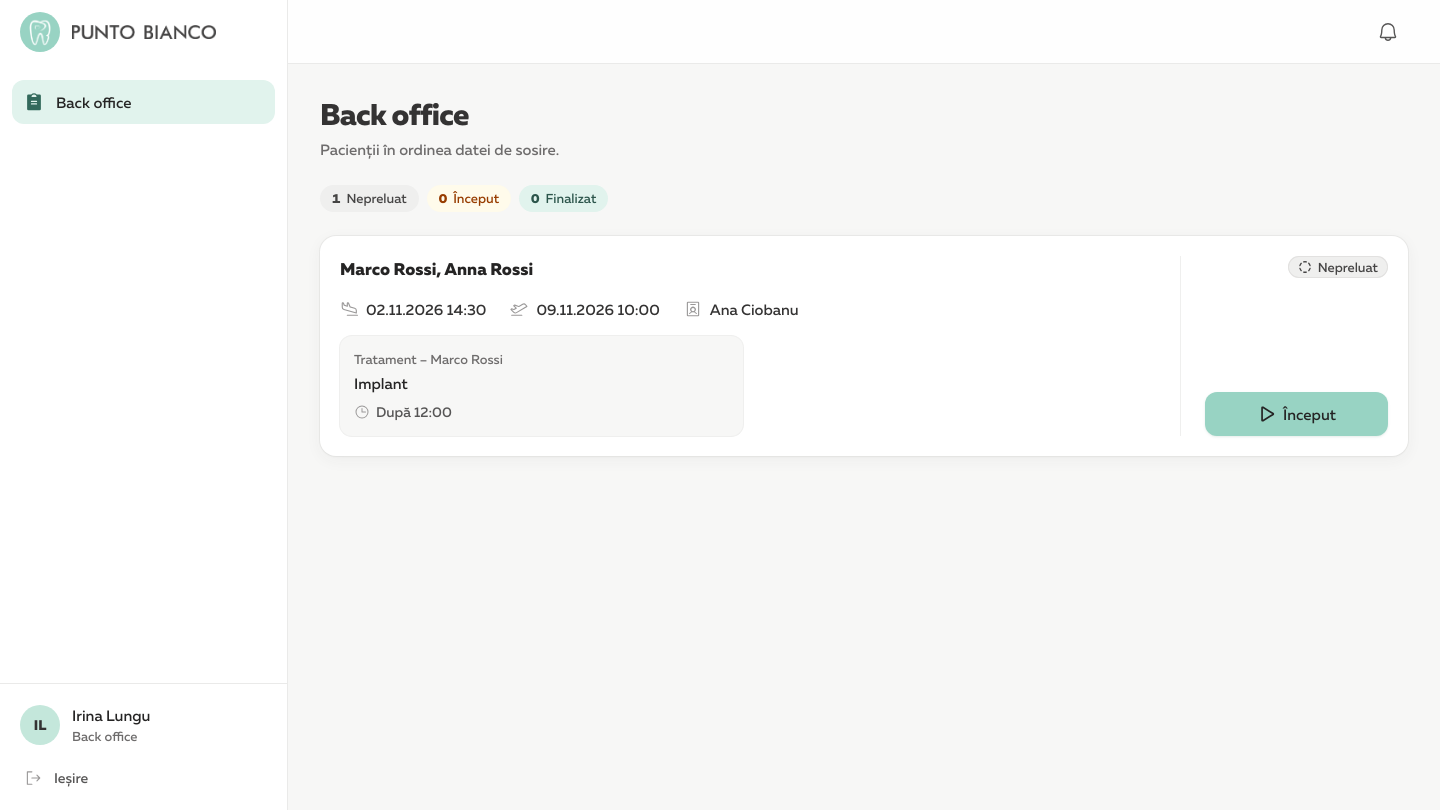
Test: Back office › „Început”: trimite INCEPUT și actualizează cardul
Click the button "Început": (1296, 414) [1205,392,1388,436]
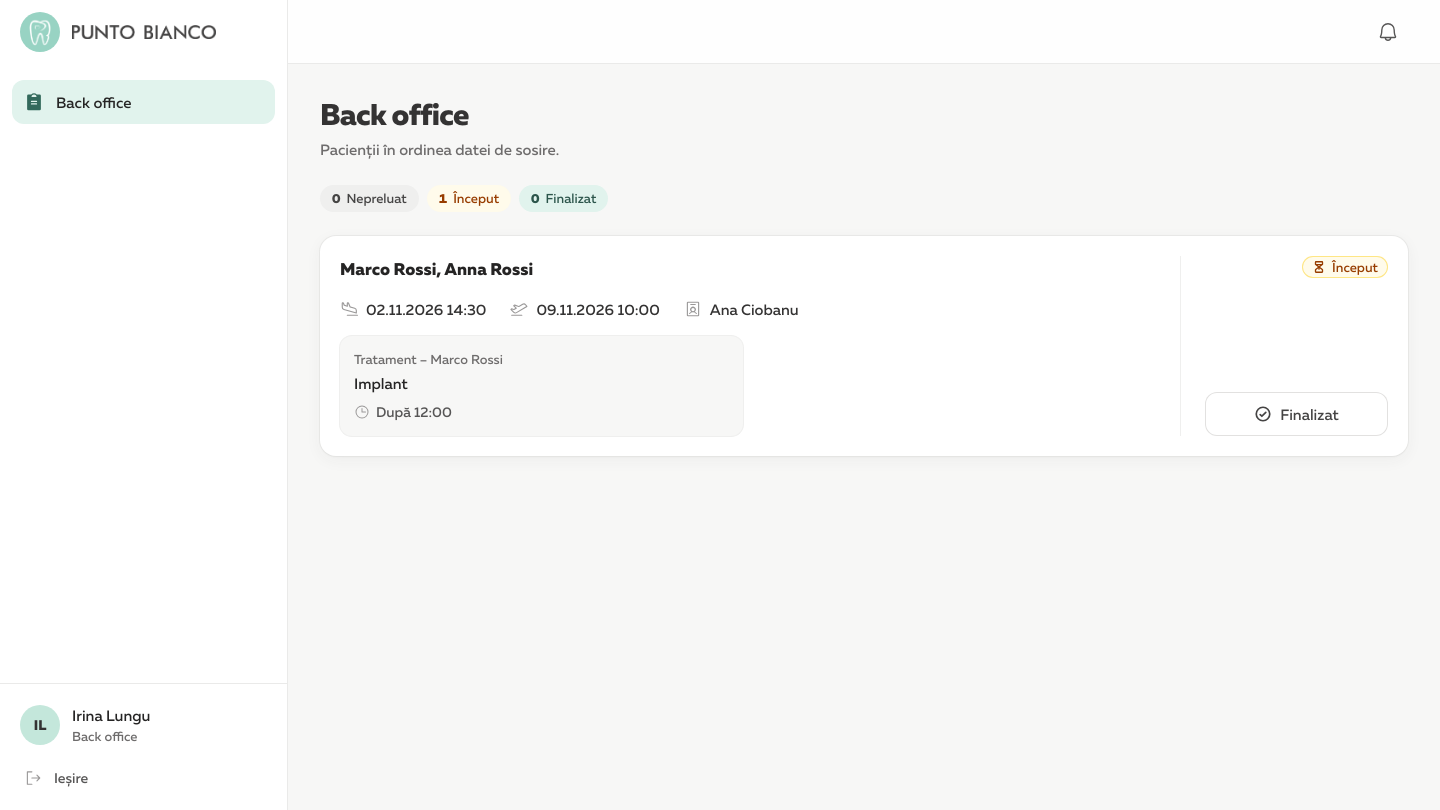
Now the button "Finalizat" is shown, box [1205,392,1388,436]
